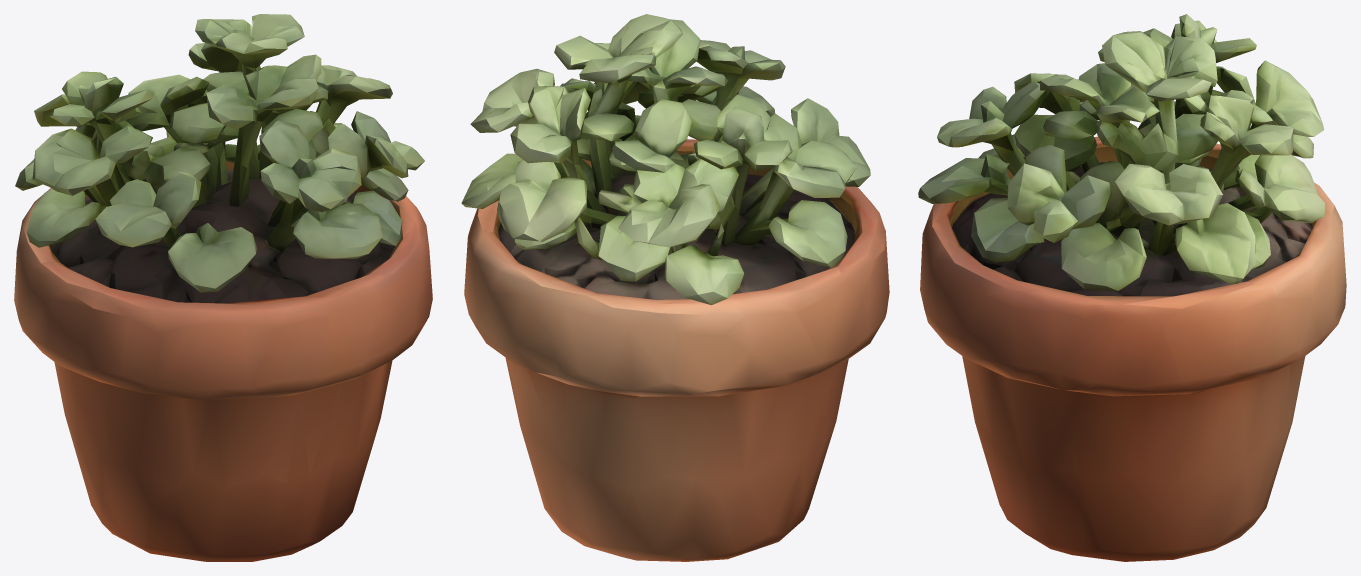
File: herb_pot.glb
The picture shows the model from 3 angles, left to right: view 1: azimuth 30°, elevation 25°; view 2: azimuth 150°, elevation 25°; view 3: azimuth 270°, elevation 25°; orthographic projection. The views are drawn at different scales.
Visible parts, largest first — view 1: tripo_node_1e0f02d6-bb80-41bd-ba3a-8584f0336951; view 2: tripo_node_1e0f02d6-bb80-41bd-ba3a-8584f0336951; view 3: tripo_node_1e0f02d6-bb80-41bd-ba3a-8584f0336951.
Boxes of the visible parts, x1,y1,x2,y2 form: tripo_node_1e0f02d6-bb80-41bd-ba3a-8584f0336951: (14, 14, 432, 561); tripo_node_1e0f02d6-bb80-41bd-ba3a-8584f0336951: (461, 14, 889, 561); tripo_node_1e0f02d6-bb80-41bd-ba3a-8584f0336951: (918, 14, 1346, 561).
Bounding box in the file's own units: 0.4806 × 0.6 × 0.4793.
Materials: 1 (1 with a texture image).
